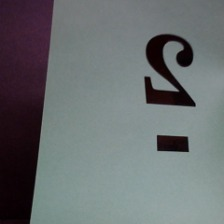green2: (134, 29, 204, 162)
